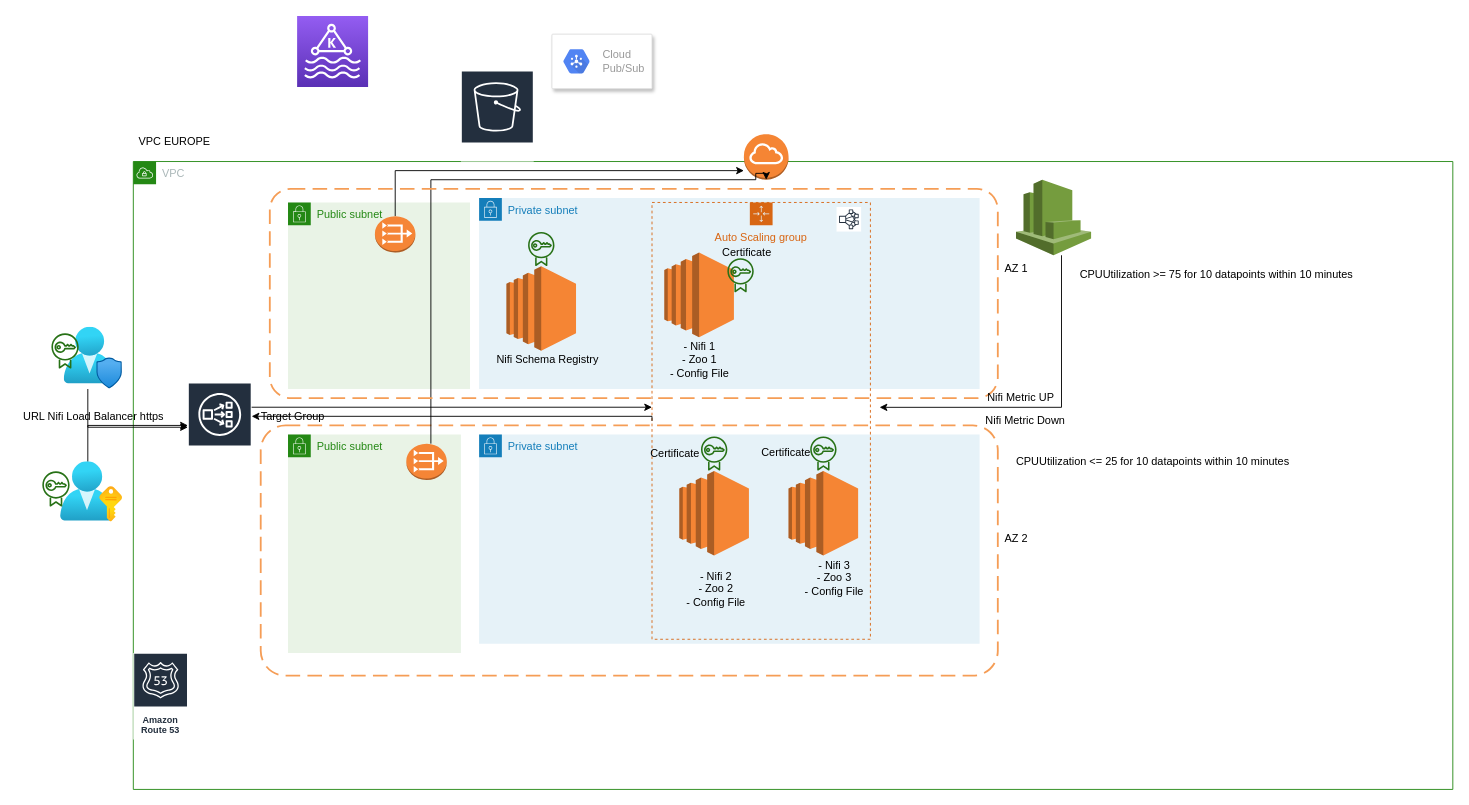
The diagram is 1469 pixels wide and 805 high, and some of its shapes have lost their labels. The shapes that lost their labels are listed below. From the top down, each one's centre as x and y in pixels, then its label:
At [497,116]: "Amazon S3".
At [848,219]: "Cluster".
At [219,426]: "Network Load Balancer".
